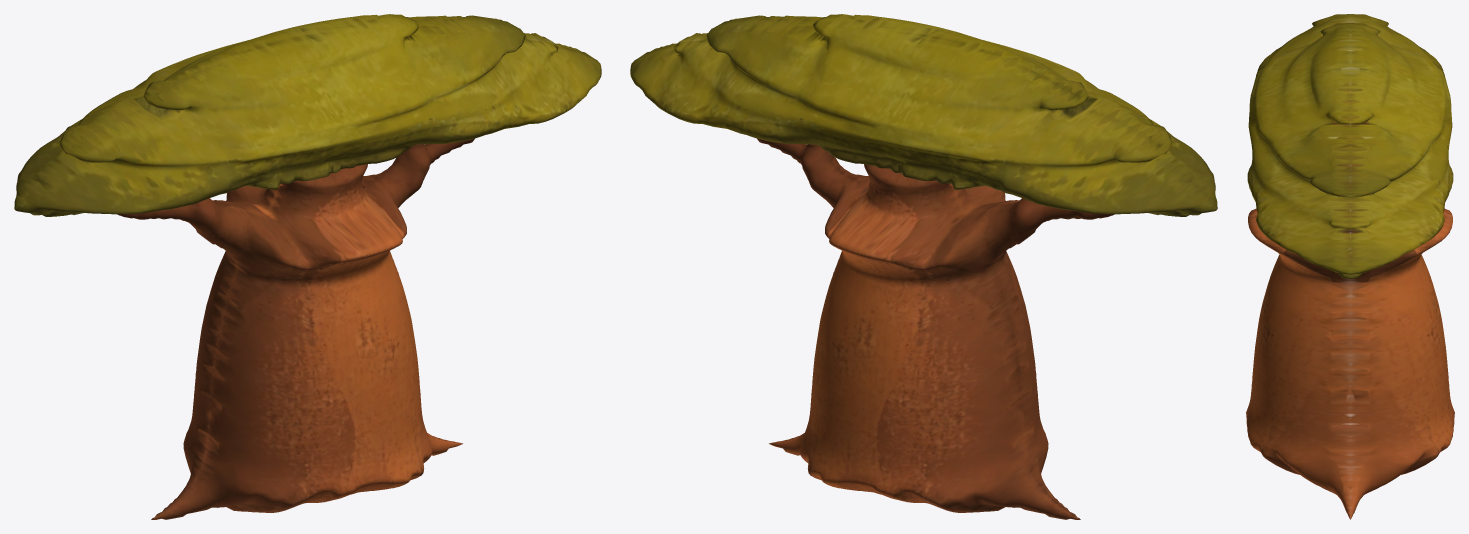
The model's file is baobab_wide.glb.
The picture shows the model from 3 angles, left to right: view 1: azimuth 30°, elevation 25°; view 2: azimuth 150°, elevation 25°; view 3: azimuth 270°, elevation 25°; orthographic projection. The views are drawn at different scales.
Visible parts, largest first — view 1: baobab_wide; view 2: baobab_wide; view 3: baobab_wide.
Part boxes in pixels (x1=…): baobab_wide: x1=14, y1=14, x2=601, y2=519; baobab_wide: x1=630, y1=14, x2=1217, y2=519; baobab_wide: x1=1246, y1=14, x2=1454, y2=519.
Bounding box in the file's own units: 8.48 × 6.29 × 3.04.
1 material, 1 textured.
